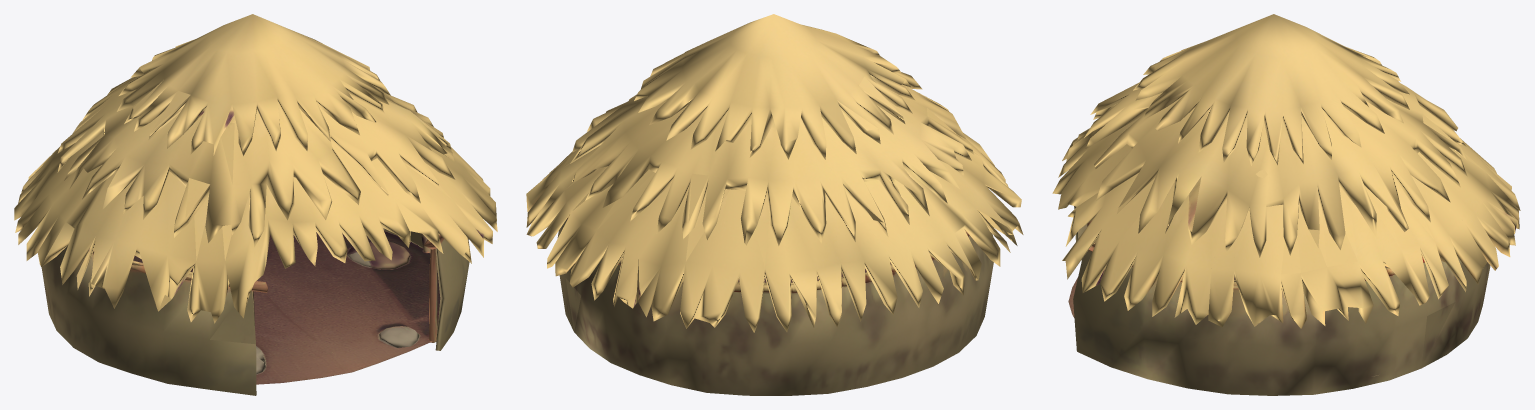
File: Meshy_AI__0807113500_texture.fbx
3 views of the same model, side by side, from view 1: azimuth 30°, elevation 25°; view 2: azimuth 150°, elevation 25°; view 3: azimuth 270°, elevation 25° (orthographic).
Visible parts, largest first — view 1: mesh_node; view 2: mesh_node; view 3: mesh_node.
Boxes of the visible parts, left/top/right/bottom form: mesh_node: left=14, top=14, right=497, bottom=395; mesh_node: left=526, top=14, right=1023, bottom=395; mesh_node: left=1052, top=14, right=1520, bottom=395.
Bounding box in the file's own units: 299 × 200 × 289.
1 material, 1 textured.
